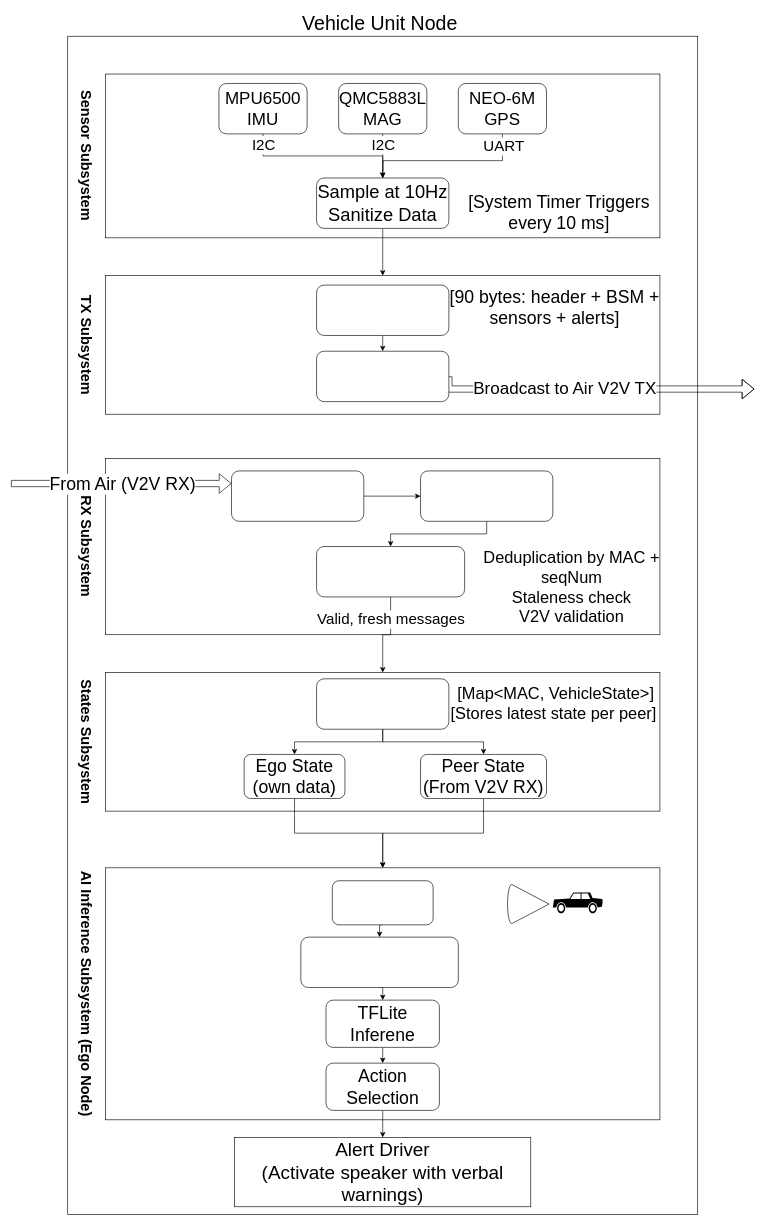
Image size: 765x1225. Some labels were removed from this diagram. The centre of each missing label's shape, as x and y in pixels:
"Build BSM V2V Message" goes at pixel 382 309.
"Cone Filter" goes at pixel 382 902.
"ESPNOW RX (Callback)" goes at pixel 297 495.
"ESPNOW TX (Broadcast)" goes at pixel 382 376.
"Observation Builder (Deep Sets input)" goes at pixel 379 962.
"Package Manager (MESH)" goes at pixel 390 571.
"Peer State Storage" goes at pixel 382 703.
"RX Queue" goes at pixel 486 495.
